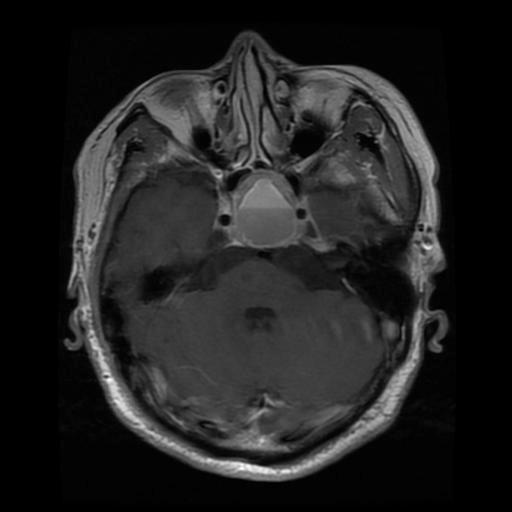Tumour-Pituitary: (218, 166, 306, 258)
